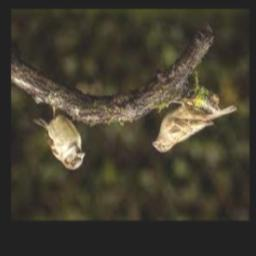Sparrow: (153, 102, 236, 154), (34, 104, 86, 170)
